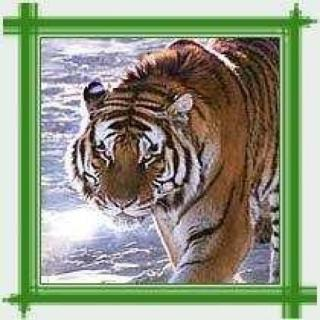Tiger: (45, 39, 274, 277)
